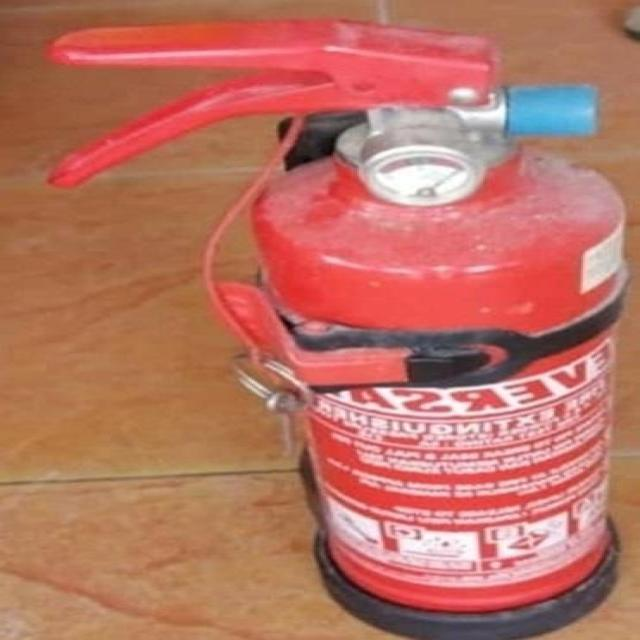Fire-Extinguisher: (52, 13, 623, 640)
